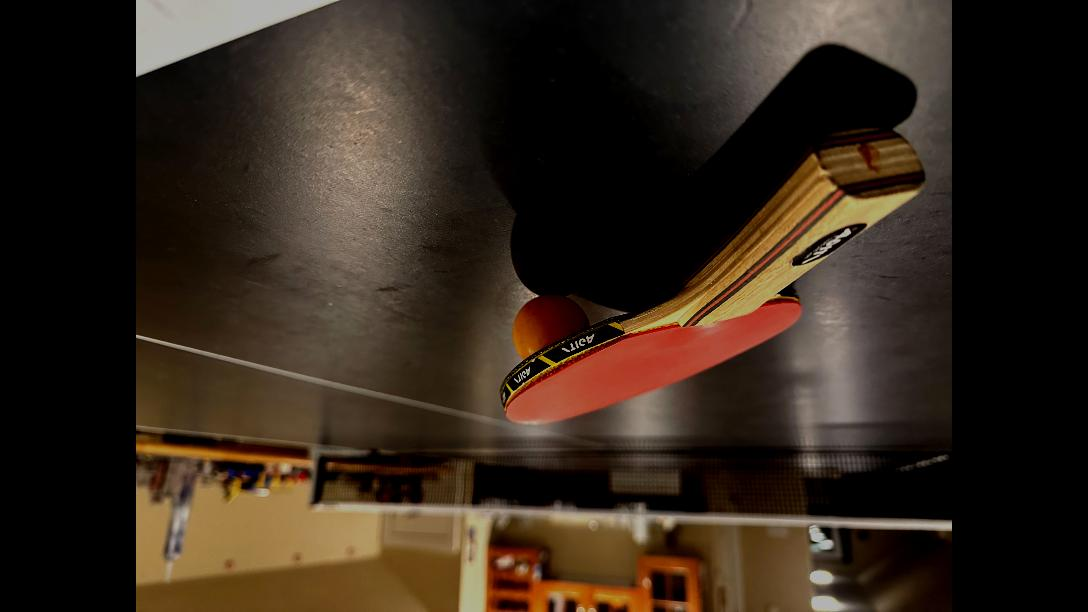Table-Tennis-Ball: (515, 298, 587, 362)
